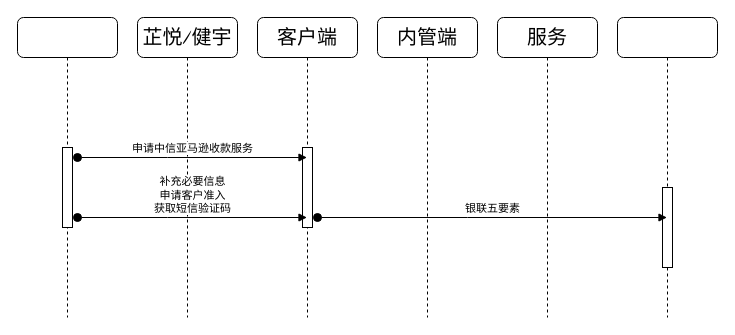
The diagram is 735 pixels wide and 335 high, and some of its shapes have lost their labels. The shapes that lost their labels are listed below. From the top down, each one's centre as x and y in pixels, then its label:
At point 67,167: "客户".
At point 667,167: "中信银行".
